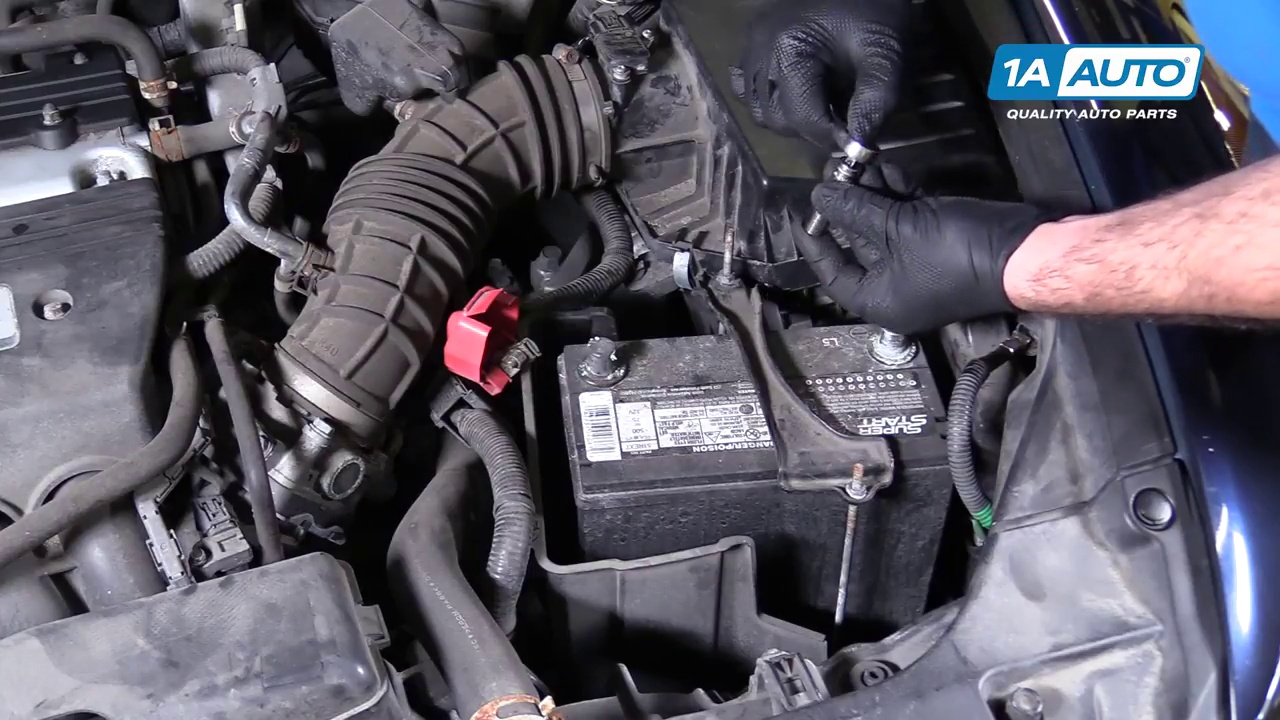battery: (550, 300, 953, 470)
neg_touched: (861, 294, 954, 385)
pos_disconnected: (448, 282, 646, 411)
